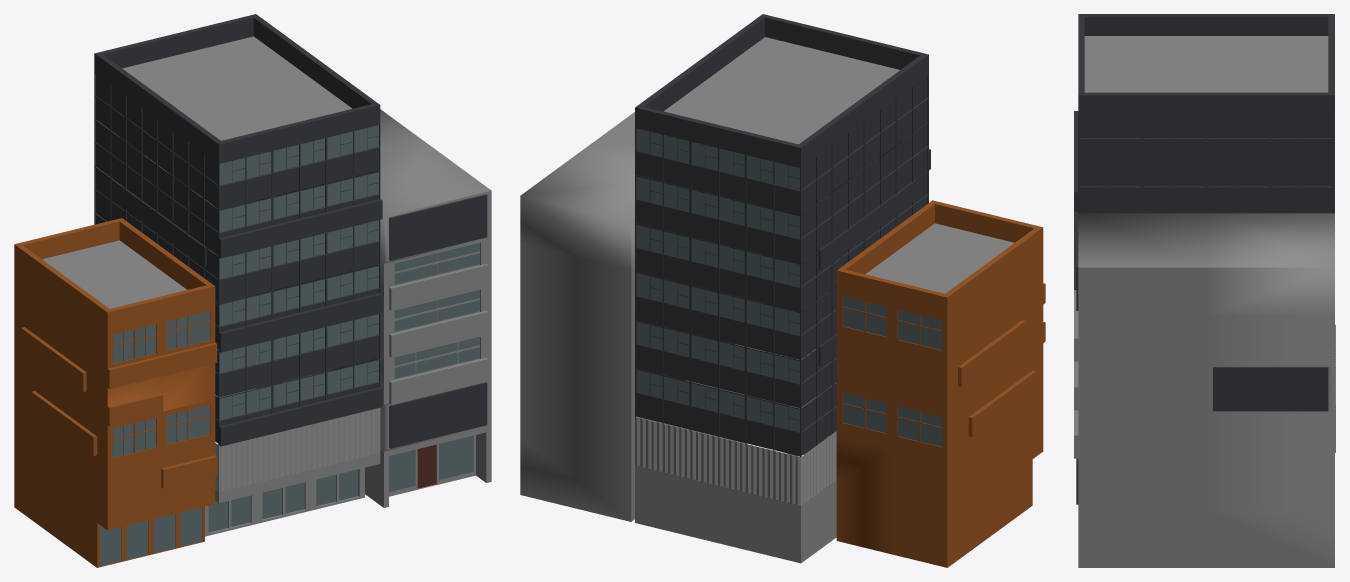
Rendered from fourbuildings.fbx.
3 renders of one model, left to right at view 1: azimuth 30°, elevation 25°; view 2: azimuth 150°, elevation 25°; view 3: azimuth 270°, elevation 25°, orthographic. The views are drawn at different scales.
Parts seen in each view (by area): view 1: Plane.072; view 2: Plane.072; view 3: Plane.072.
Part boxes in pixels (x1,y1,x2,y2): Plane.072: (14, 14, 491, 567); Plane.072: (520, 14, 1045, 567); Plane.072: (1074, 14, 1335, 567).
Size of the model in its own units: 2170 by 2150 by 1225.
